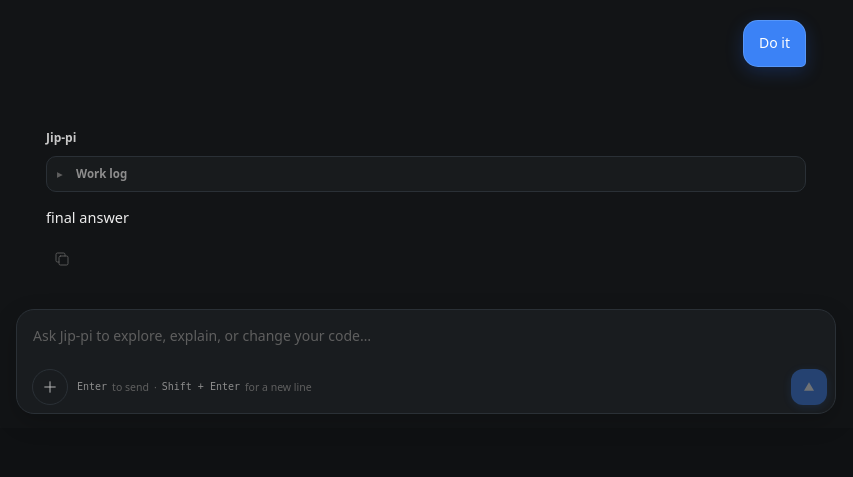
Test: ChatView conversation turns › failed attempts fold into the work log when a later retry succeeds
Expected: the button named "Copy final response" is shown, [46,243,78,275]
Click the button with test id "assistant-process-toggle": click(102, 174) [47,157,805,191]
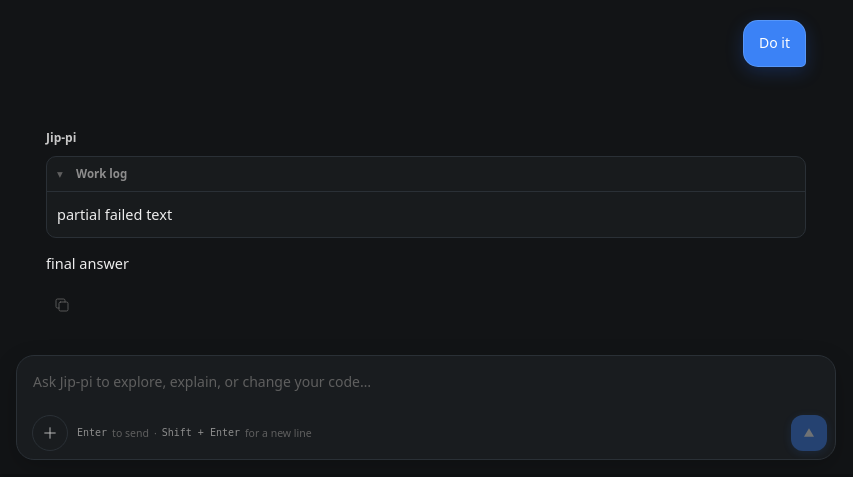
Expected: the element with test id "assistant-process-content" reads "partial failed text", [57,204,172,224]
